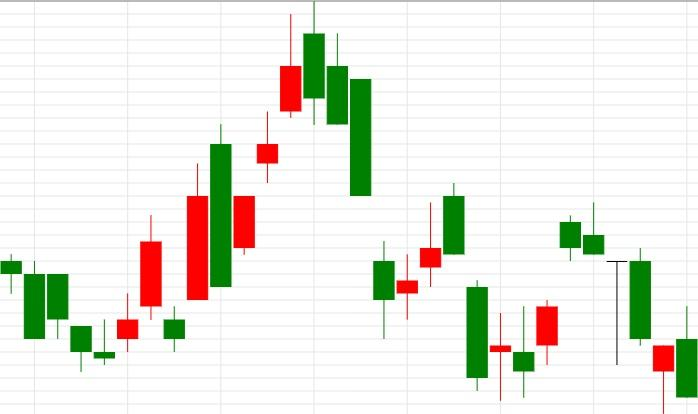bearish_engulfing_fall: (164, 0, 326, 352)
